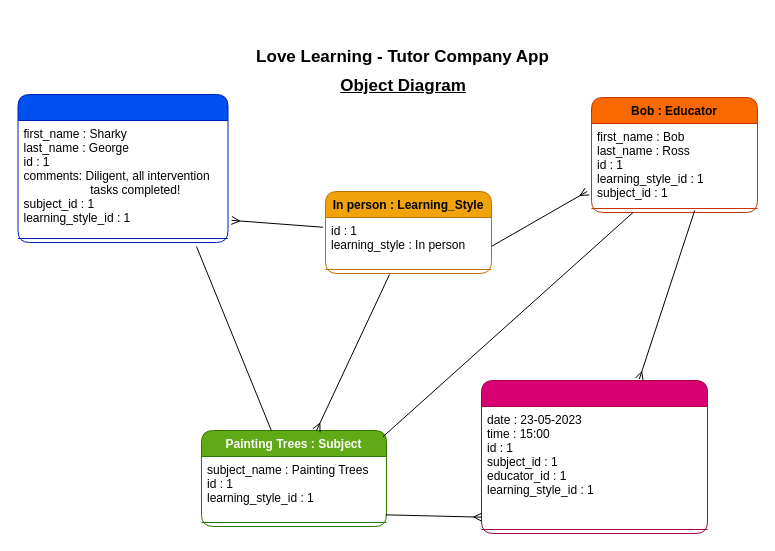
This 775x551 diagram has some shape labels left out. Here are the shapes that lost their labels. From the top down, the box of each, then its label:
(17, 94, 228, 242): Sharky : Student
(480, 380, 708, 534): 1 : Lesson
